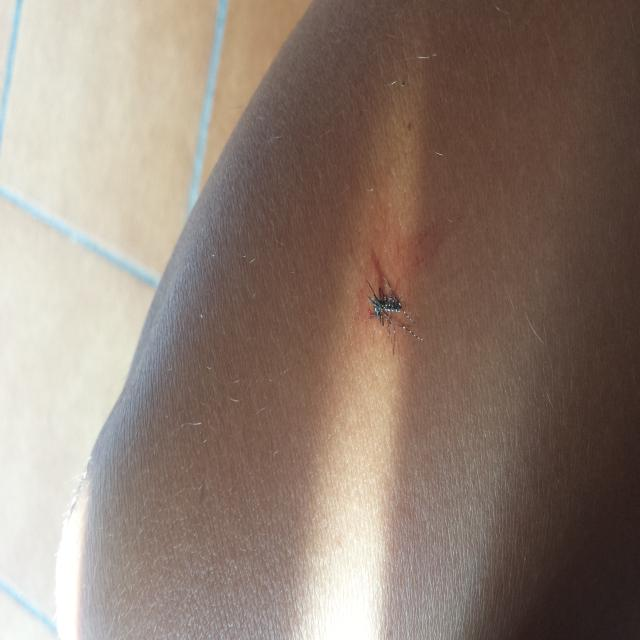albopictus: (361, 260, 425, 360)
